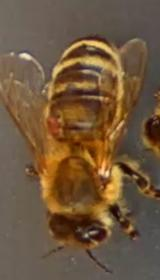varroa_mite: (42, 106, 70, 147)
